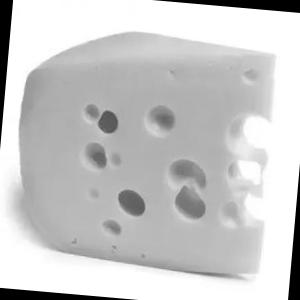cheese: (2, 23, 278, 286)
